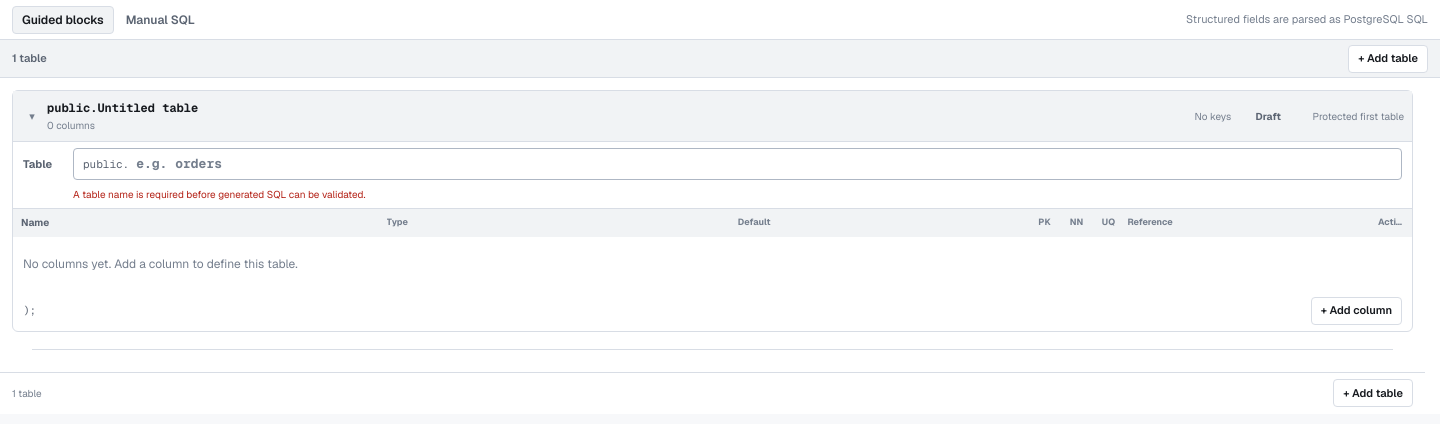
Test: guided editor › removes a column and returns the table to its reachable empty state
Click the button "+ Add column" at (1356, 310), box [1311,296,1402,324]
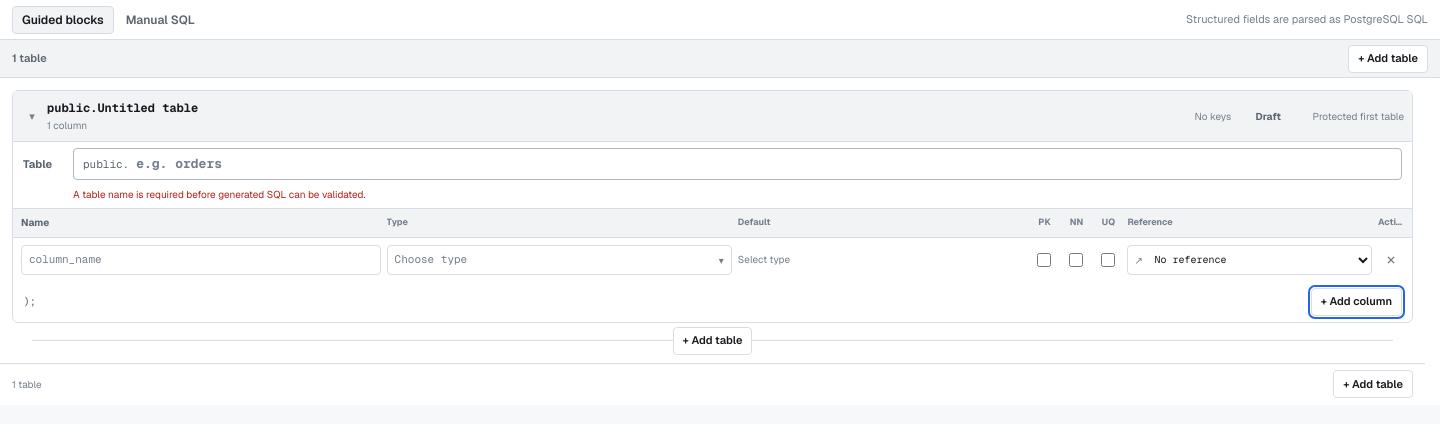
expect the field named "Column 1 name" is shown: met, box [21,244,381,274]
Click the button named "Delete column 1" at (1391, 260), box [1378,244,1404,274]
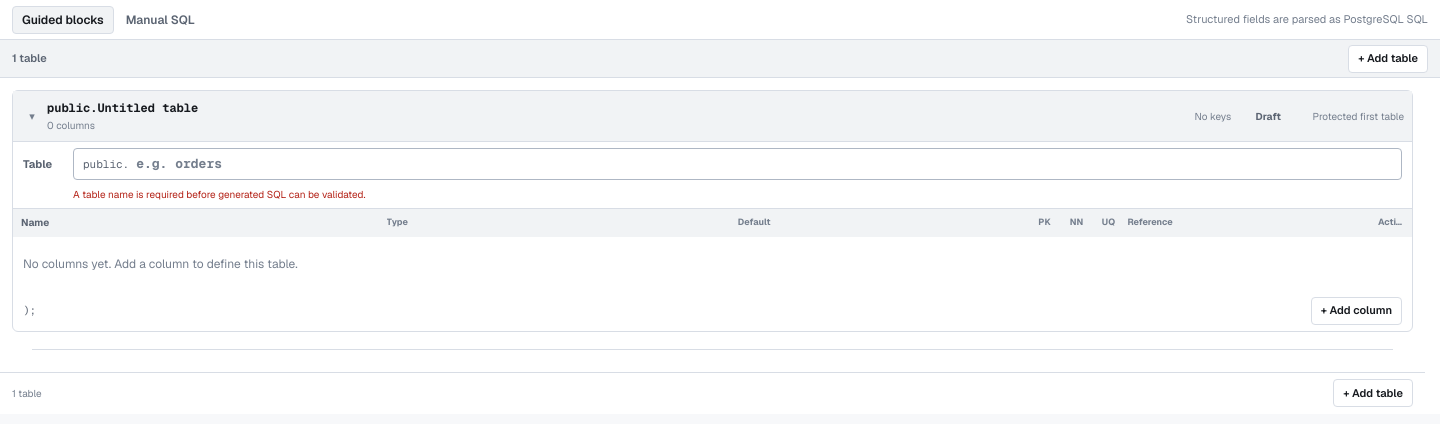
expect the button "+ Add column" is shown: met, box [1311,296,1402,324]
expect the text "No columns yet. Add a column to define this table." is shown: met, box [23,256,298,272]
